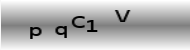1: (85, 18, 97, 34)
C: (70, 14, 85, 30)
V: (112, 8, 131, 24)
p: (27, 25, 42, 40)
q: (53, 23, 67, 39)
